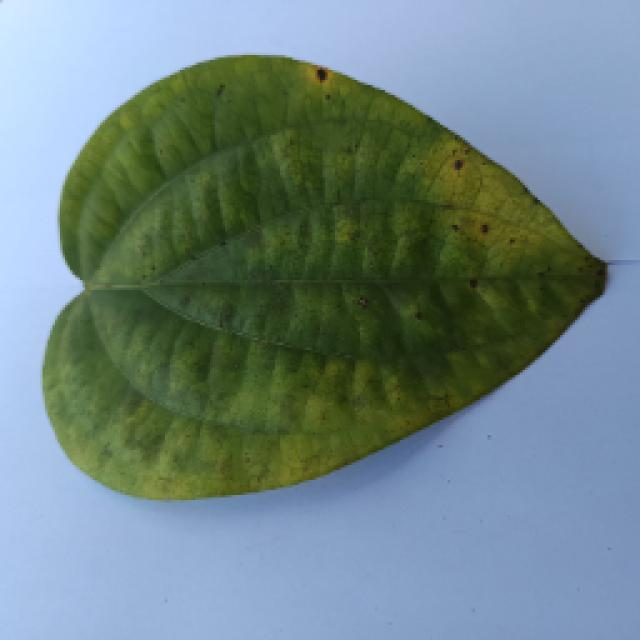slow-decline: (27, 52, 625, 502)
